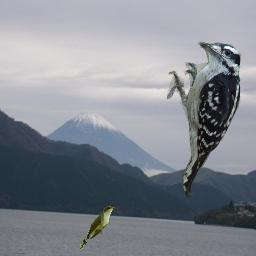Cuckoo: (80, 206, 115, 249)
Woodpecker: (167, 40, 250, 197)
